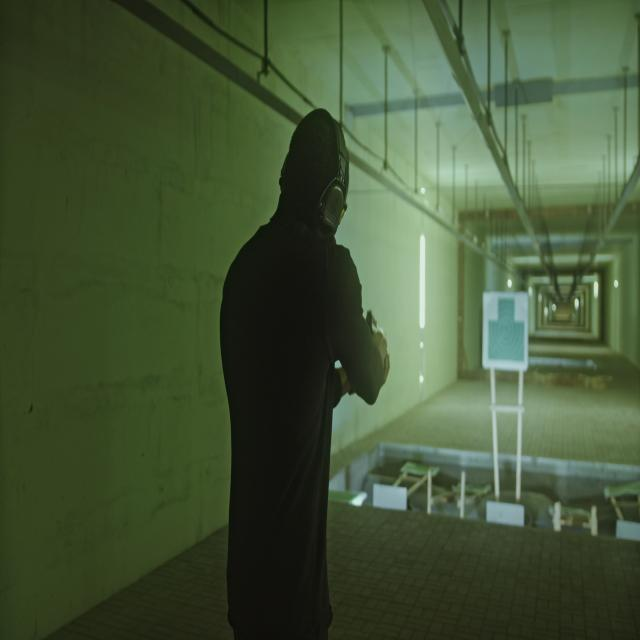Gun_Holder: (365, 304, 398, 397)
Person: (213, 90, 393, 633)
